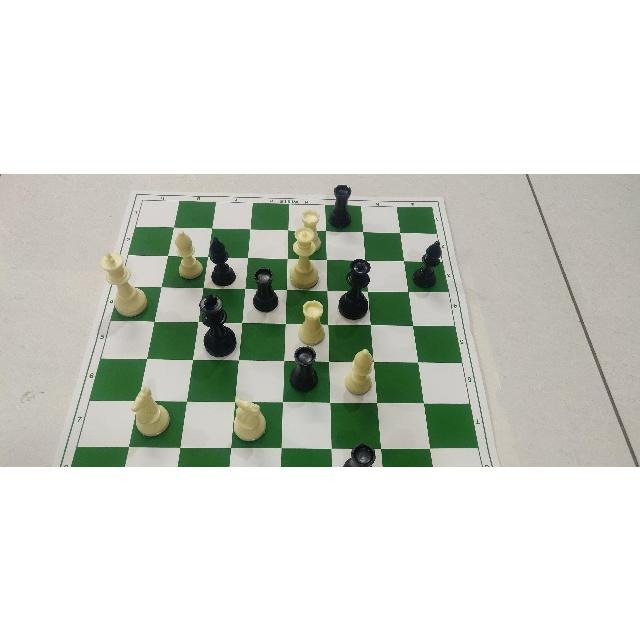black-bishop: (413, 236, 441, 287), (209, 234, 235, 285)
black-king: (197, 294, 236, 356)
black-queen: (338, 258, 369, 318)
black-rook: (288, 348, 319, 392), (252, 266, 280, 311), (343, 441, 376, 464), (327, 206, 358, 223)
white-bishop: (345, 347, 375, 398), (173, 229, 202, 278)
white-king: (102, 247, 146, 318)
white-knight: (132, 385, 170, 435), (234, 395, 266, 440)
white-queen: (289, 226, 321, 288)
white-rook: (298, 300, 327, 344), (298, 210, 322, 252)
